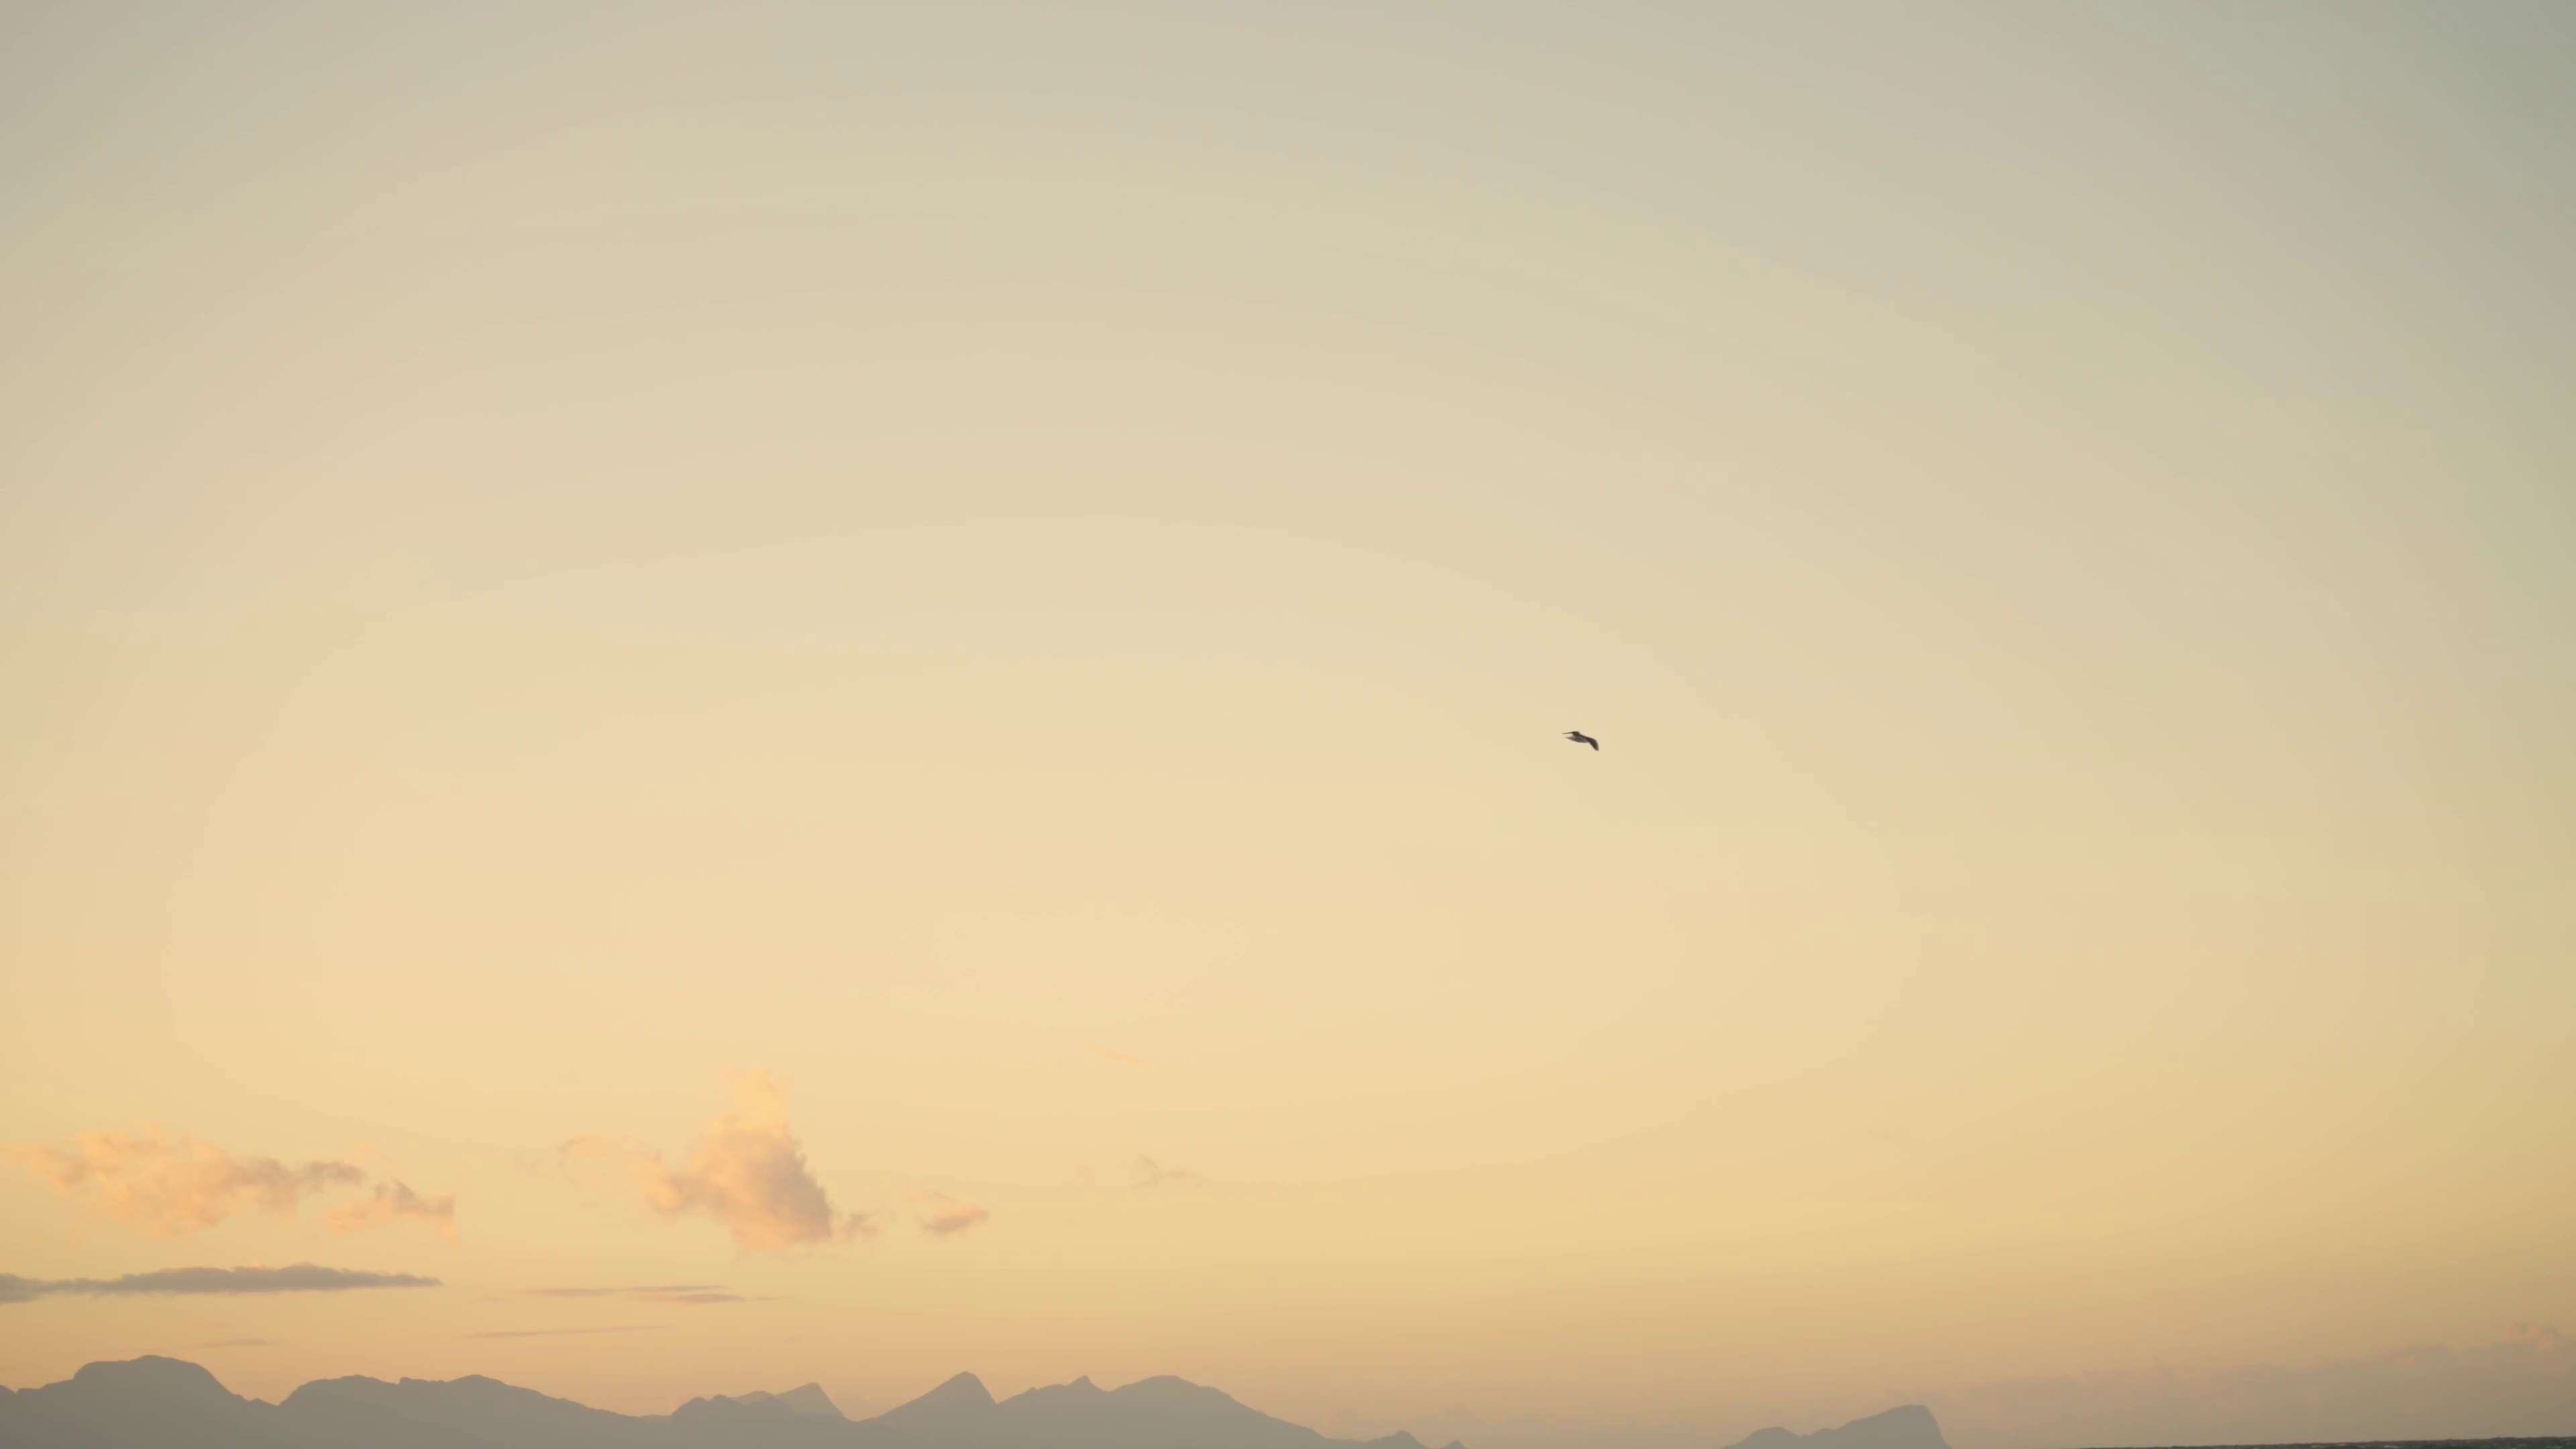bird: (1566, 729, 1599, 750)
